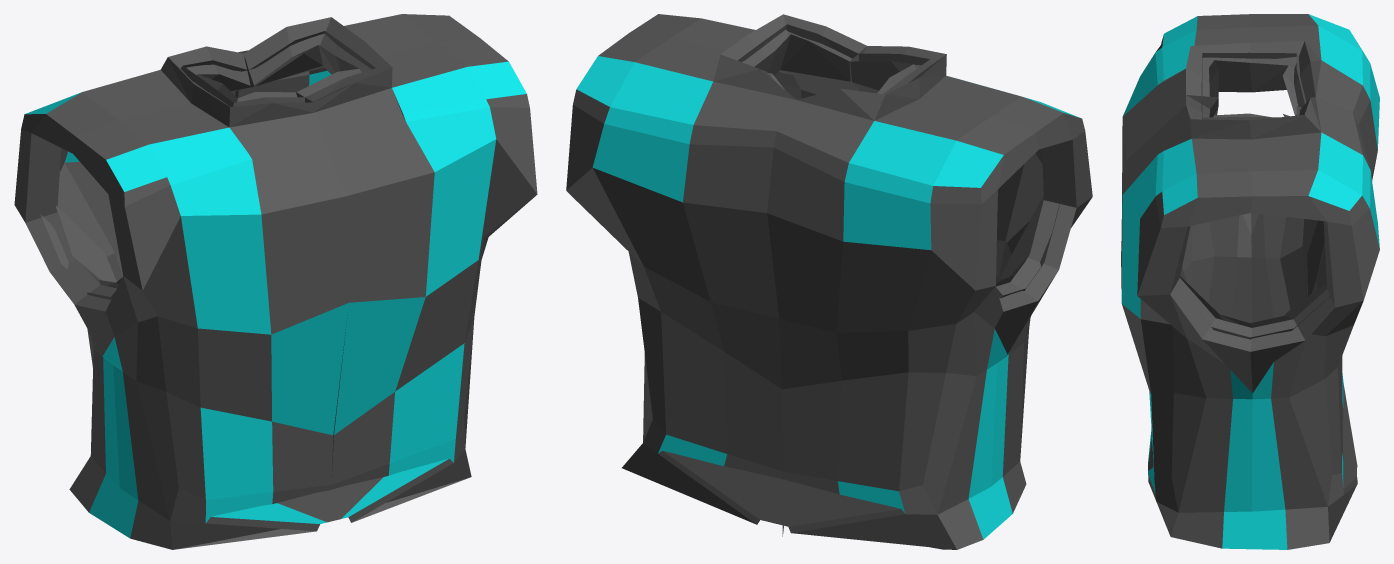
Rendered from PlayerFutureChestplate.fbx.
The picture shows the model from 3 angles, left to right: view 1: azimuth 30°, elevation 25°; view 2: azimuth 150°, elevation 25°; view 3: azimuth 270°, elevation 25°; orthographic projection. The views are drawn at different scales.
Parts seen in each view (by area): view 1: Cube; view 2: Cube; view 3: Cube.
Part boxes in pixels (x1,y1,x2,y2): Cube: [14, 14, 537, 549]; Cube: [566, 14, 1092, 549]; Cube: [1121, 14, 1379, 549].
Bounding box in the file's own units: 4.11 × 4.2 × 2.39.
